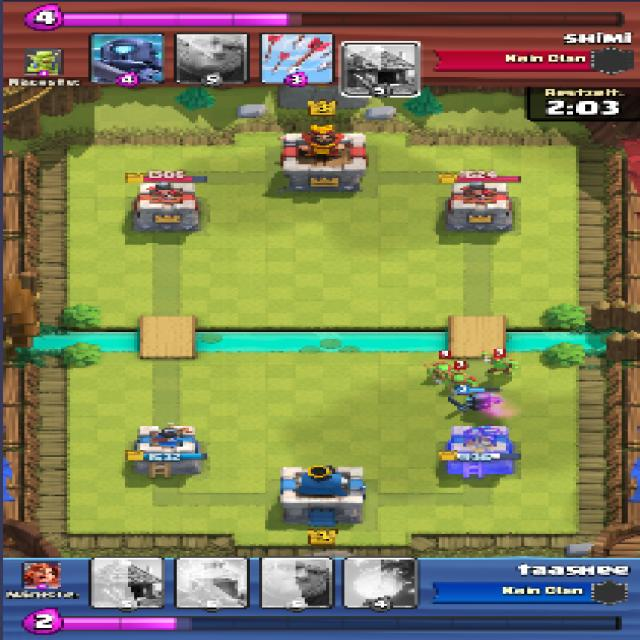Enemy-SpearGoblin: (482, 348, 520, 375), (422, 360, 457, 384), (450, 370, 475, 394)
Player-MiniPEKKA: (448, 388, 502, 412)
